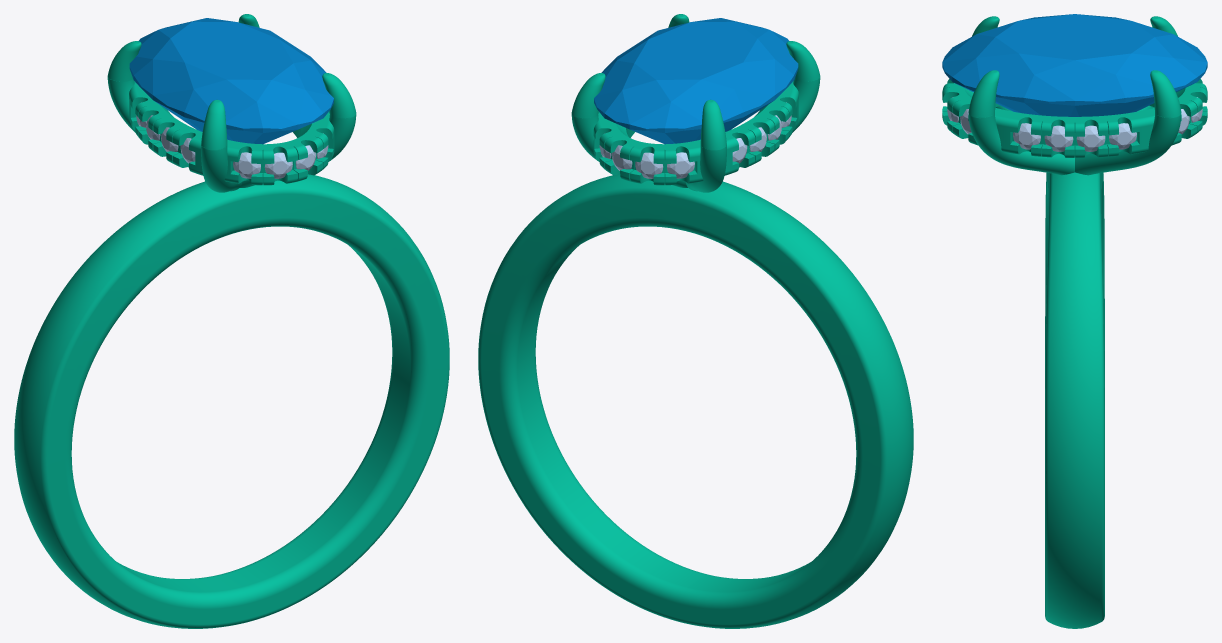
3 renders of one model, left to right at view 1: azimuth 30°, elevation 25°; view 2: azimuth 150°, elevation 25°; view 3: azimuth 270°, elevation 25°, orthographic.
Parts seen in each view (by area): view 1: VR472(front).3dm, Diamond_Oval; view 2: VR472(front).3dm, Diamond_Oval; view 3: VR472(front).3dm, Diamond_Oval, Diamond_Round (×4).
Part boxes in pixels (x1,y1,x2,y2): VR472(front).3dm: (14, 14, 449, 628); Diamond_Oval: (129, 18, 333, 144); VR472(front).3dm: (478, 14, 913, 628); Diamond_Oval: (594, 18, 798, 144); VR472(front).3dm: (942, 16, 1207, 628); Diamond_Oval: (942, 14, 1207, 116); Diamond_Round (×4): (1013, 123, 1136, 151).
Size of the model in its own units: 2.32 by 3 by 1.27.
